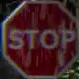Stop: (2, 0, 78, 78)
